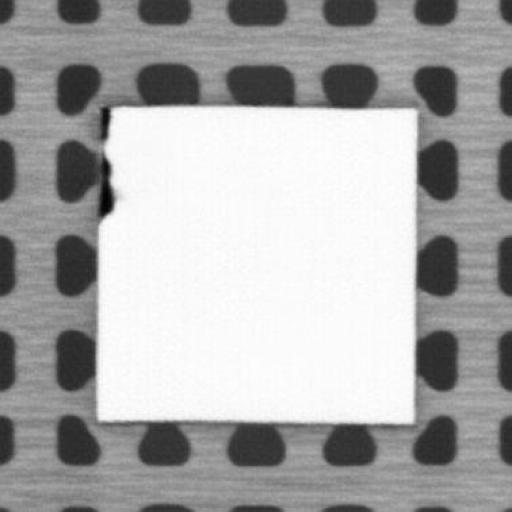DIE_BROKEN: (96, 152, 114, 222), (94, 102, 112, 144)
